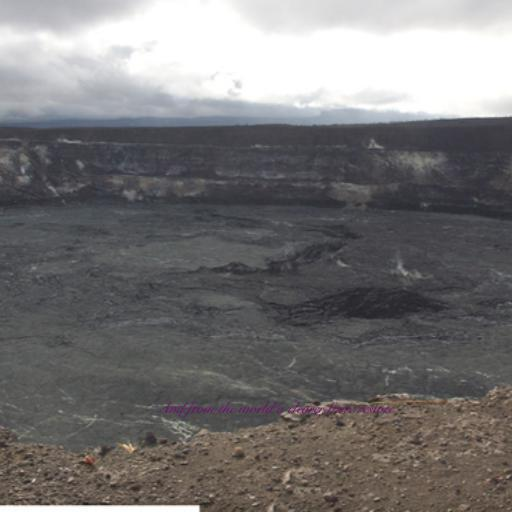Snell Roundhand: (154, 401, 394, 418)
